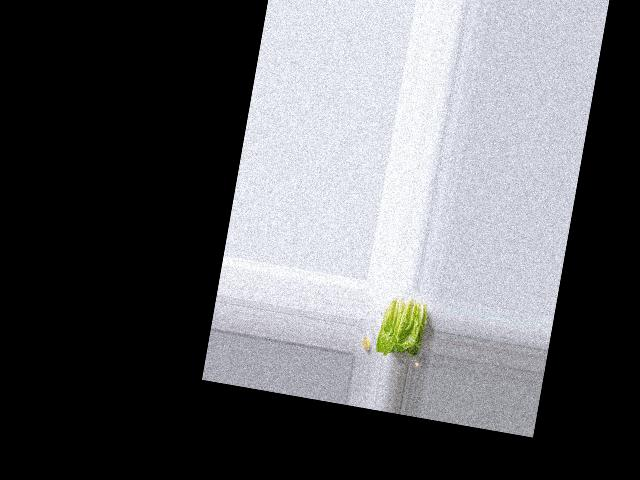lettuce: (372, 293, 431, 362)
